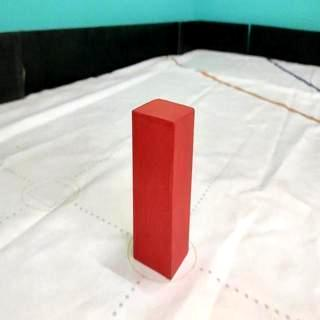redbox: (132, 97, 194, 279)
